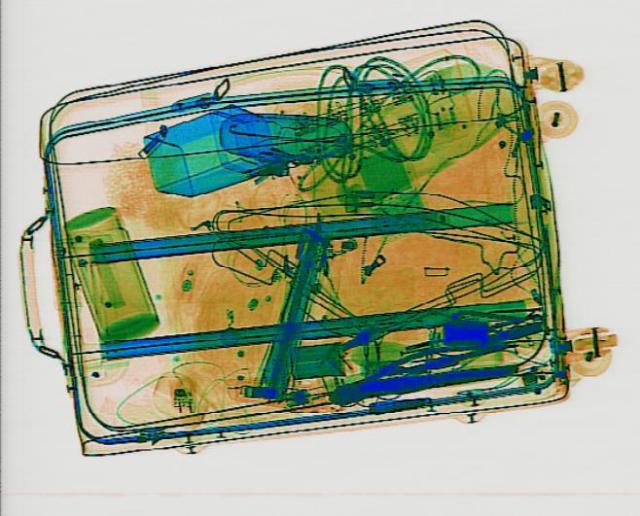Pliers: (396, 310, 550, 374)
